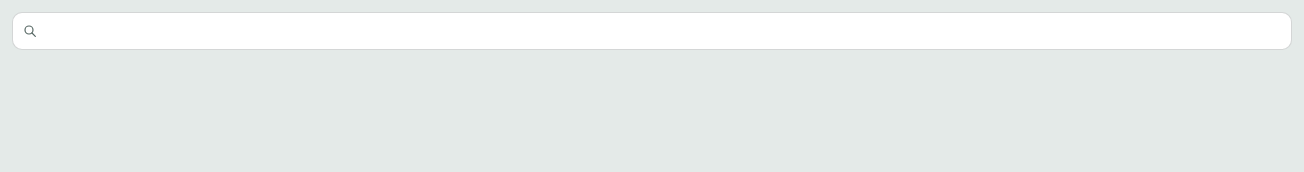
Scenario: fields › a search field submits on Enter and clears with its button or Escape
Type "plan" into the search field named "Search".
click(652, 31); type("plan")  # box [12,12,1292,50]
Then press Enter
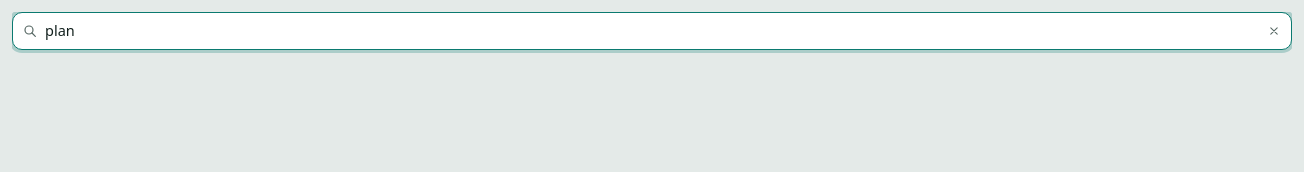
Click the button named "×".
click(1274, 31)  # box [1262,19,1286,43]
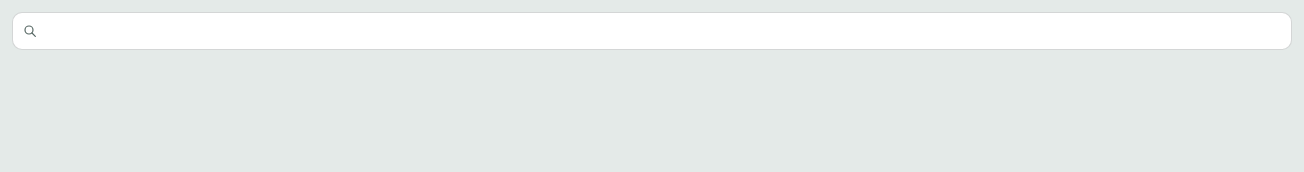
Result: the search field named "Search" is empty
Type "x" into the search field named "Search".
click(652, 31); type("x")  # box [12,12,1292,50]
Then press Escape
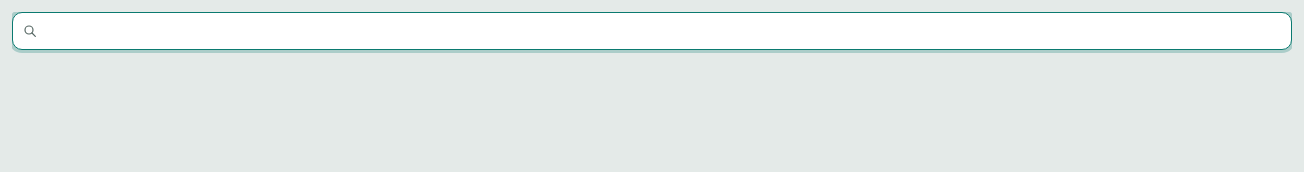
Result: the search field named "Search" is empty at [12,12,1292,50]
